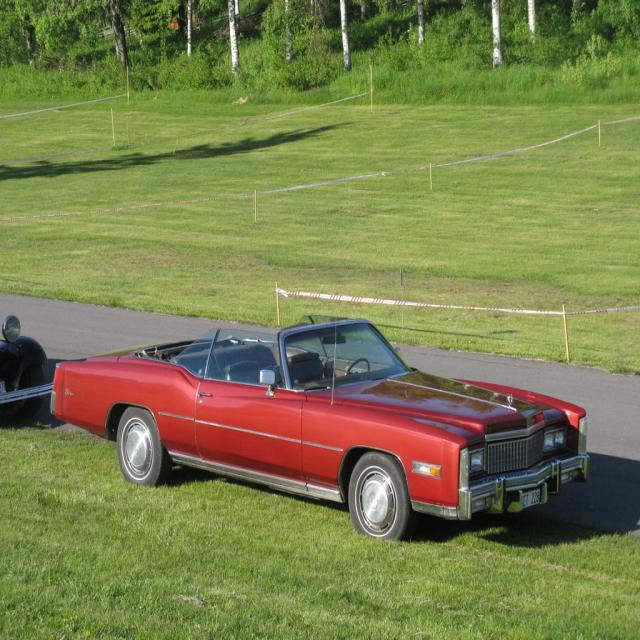car: (46, 301, 589, 537)
